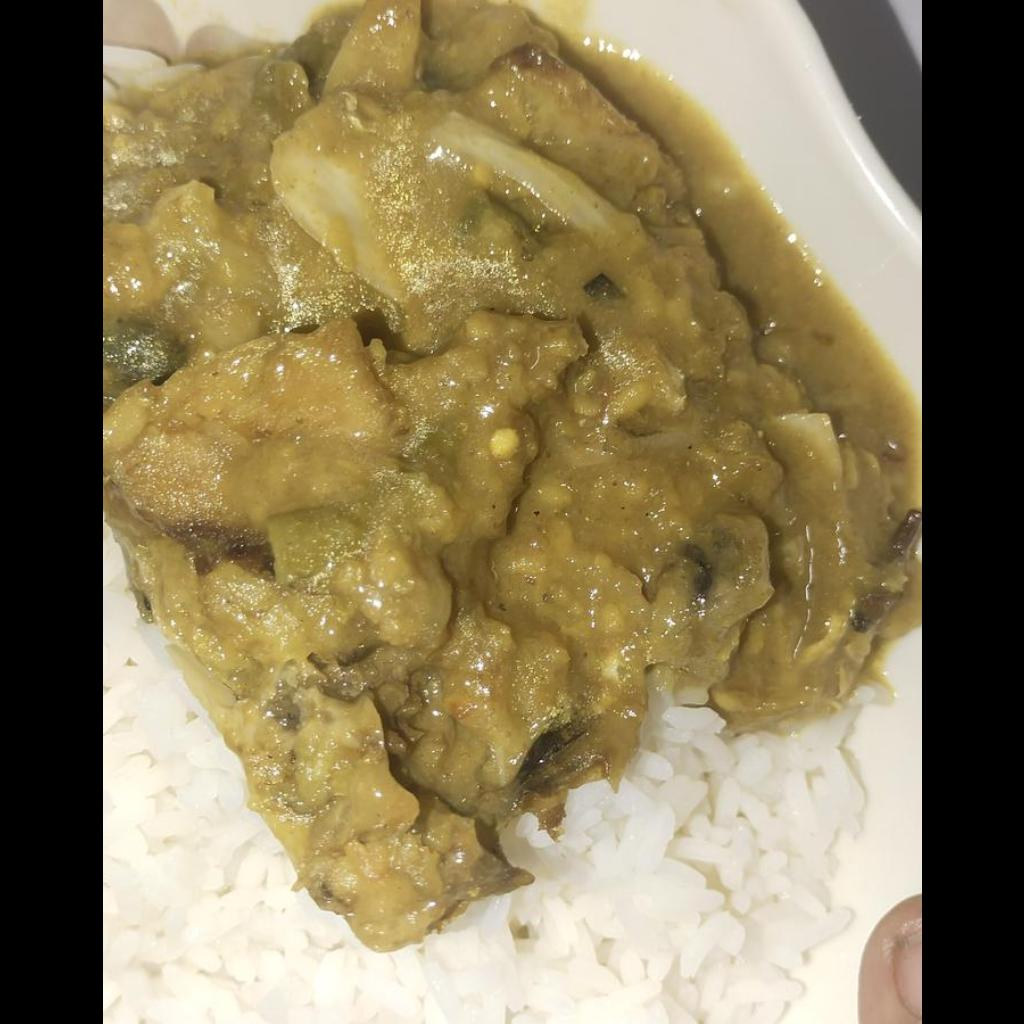chicken: (102, 0, 897, 953)
rice: (106, 540, 871, 1023)
